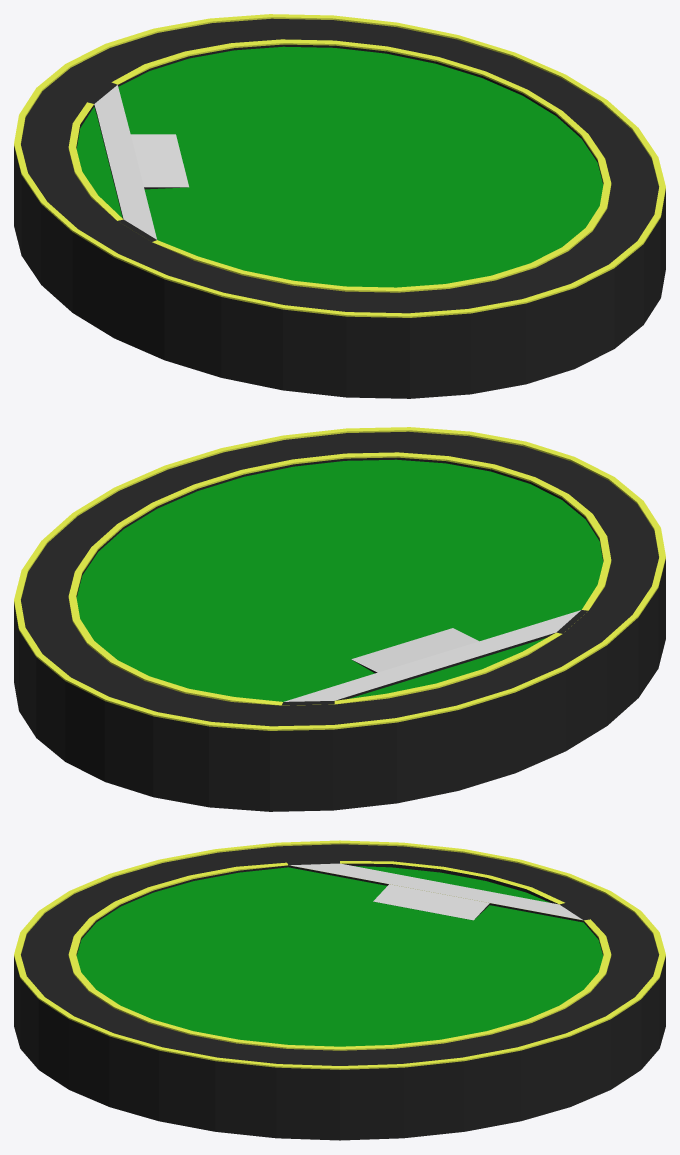
Rendered from racetrack_2.fbx.
The picture shows the model from 3 angles, top to bottom: view 1: azimuth 30°, elevation 25°; view 2: azimuth 150°, elevation 25°; view 3: azimuth 270°, elevation 25°; orthographic projection. The views are drawn at different scales.
Parts seen in each view (by area): view 1: Racetrack_oval; view 2: Racetrack_oval; view 3: Racetrack_oval.
Boxes of the visible parts, box(x1,y1,x2,y2) form: Racetrack_oval: box(14, 14, 665, 398); Racetrack_oval: box(14, 427, 665, 811); Racetrack_oval: box(14, 840, 665, 1140).
Bounding box in the file's own units: 2832 × 417 × 3423.
